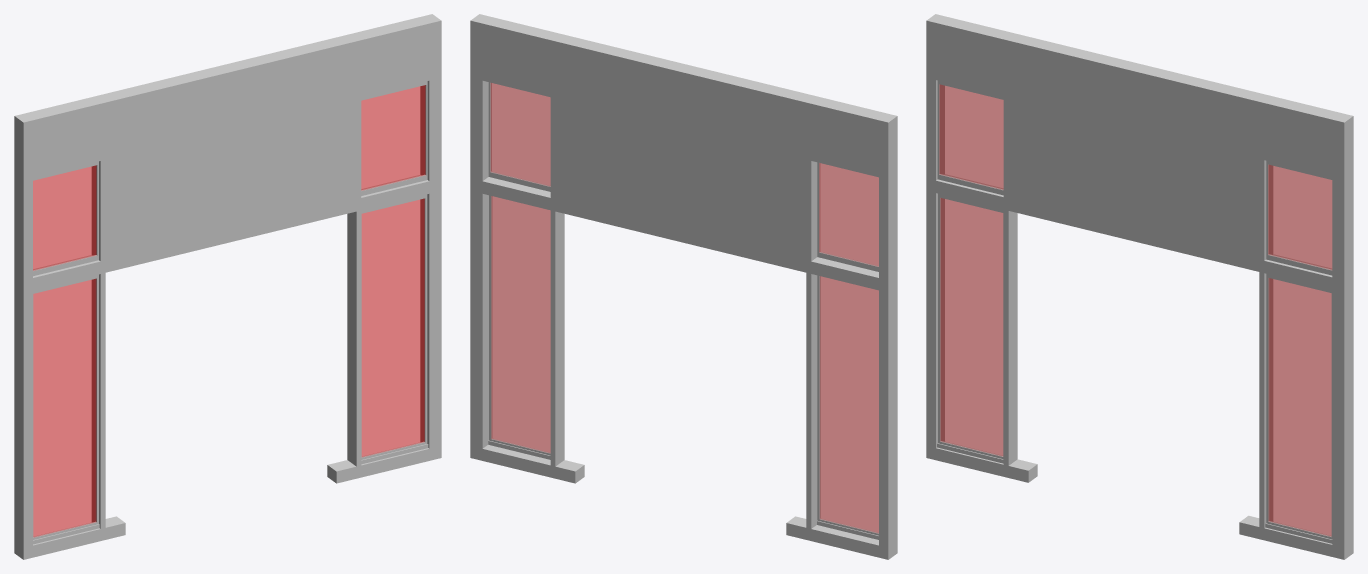
The model's file is wall with windows set 7.FBX.
3 renders of one model, left to right at view 1: azimuth 30°, elevation 25°; view 2: azimuth 150°, elevation 25°; view 3: azimuth 330°, elevation 25°, orthographic.
Parts seen in each view (by area): view 1: wall with windows set 7; view 2: wall with windows set 7; view 3: wall with windows set 7.
Boxes of the visible parts, x1,y1,x2,y2 form: wall with windows set 7: (14, 14, 441, 559); wall with windows set 7: (470, 14, 897, 559); wall with windows set 7: (926, 14, 1353, 559).
Bounding box in the file's own units: 4 × 0.15 × 4.
